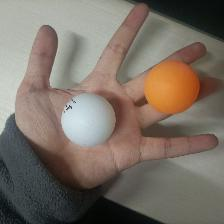WhiteBall: (60, 93, 115, 146)
YellowBall: (143, 60, 198, 113)
